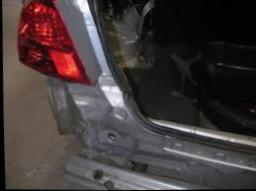Bumper: (41, 77, 256, 190)
